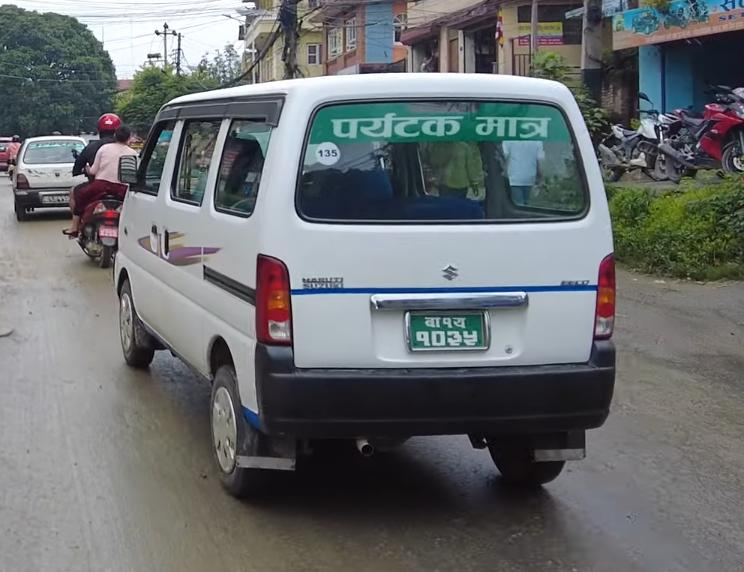van: (109, 58, 644, 510)
